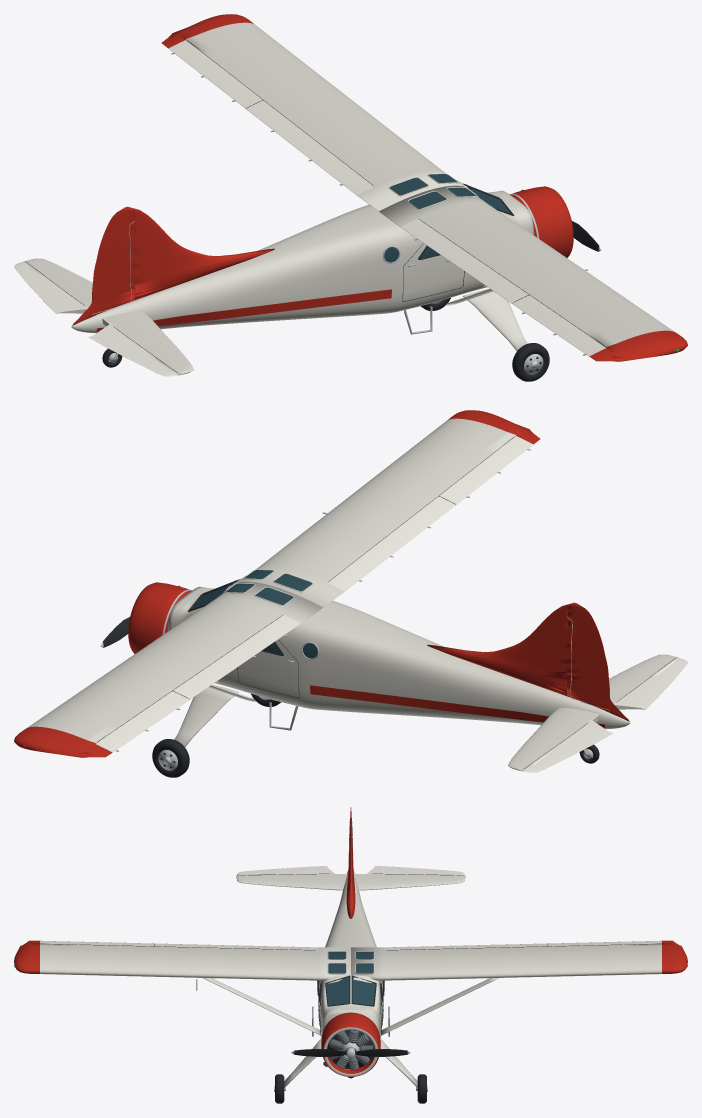
Rendered from dhc2-beaver-like-own.glb.
3 renders of one model, top to bottom at view 1: azimuth 30°, elevation 25°; view 2: azimuth 150°, elevation 25°; view 3: azimuth 270°, elevation 25°, orthographic. The views are drawn at different scales.
Parts seen in each view (by area): view 1: Fuselage, Wing2, Wing1, Fin, Rudder, Stabiliser, Elevator, Flap_L, EngineCowling, Flap_R, FuselageStripe-1, Aileron_L (+3 smaller); view 2: Fuselage, Wing1, Wing2, Fin, Rudder, Stabiliser, Elevator, Flap_R, EngineCowling, Flap_L, FuselageStripe1, Aileron_R (+3 smaller); view 3: Wing2, Wing1, Fuselage, Stabiliser, EngineCowling, Elevator, WingLiftStrut1, WingLiftStrut-1, Fin, Flap_L, Flap_R, Windscreen-1 (+2 smaller).
Boxes of the visible parts, bbox=[...] form: Fuselage: bbox=[71, 180, 533, 333]; Wing2: bbox=[170, 14, 463, 211]; Wing1: bbox=[379, 185, 687, 361]; Fin: bbox=[119, 208, 274, 305]; Rudder: bbox=[72, 206, 135, 325]; Stabiliser: bbox=[23, 258, 193, 375]; Elevator: bbox=[14, 262, 177, 376]; Flap_L: bbox=[246, 100, 373, 195]; EngineCowling: bbox=[510, 186, 573, 257]; Flap_R: bbox=[401, 219, 528, 303]; FuselageStripe-1: bbox=[96, 289, 391, 331]; Aileron_L: bbox=[161, 34, 261, 108]; Fuselage: bbox=[168, 576, 630, 729]; Wing1: bbox=[238, 410, 531, 607]; Wing2: bbox=[14, 581, 322, 757]; Fin: bbox=[427, 604, 581, 701]; Rudder: bbox=[566, 602, 629, 721]; Stabiliser: bbox=[508, 654, 678, 771]; Elevator: bbox=[524, 658, 687, 772]; Flap_R: bbox=[328, 496, 455, 591]; EngineCowling: bbox=[128, 582, 191, 653]; Flap_L: bbox=[173, 615, 300, 699]; FuselageStripe1: bbox=[310, 685, 605, 727]; Aileron_R: bbox=[440, 430, 540, 504]; Wing2: bbox=[351, 943, 687, 980]; Wing1: bbox=[14, 943, 350, 980]; Fuselage: bbox=[318, 870, 383, 1036]; Stabiliser: bbox=[236, 874, 465, 890]; EngineCowling: bbox=[321, 1012, 380, 1076]; Elevator: bbox=[236, 866, 465, 875]; WingLiftStrut1: bbox=[380, 978, 498, 1035]; WingLiftStrut-1: bbox=[203, 978, 321, 1035]; Fin: bbox=[346, 813, 355, 918]; Flap_L: bbox=[383, 943, 547, 950]; Flap_R: bbox=[154, 943, 318, 950]; Windscreen-1: bbox=[326, 977, 349, 1005].
Size of the model in its own units: 9.2 by 3.98 by 14.63.
